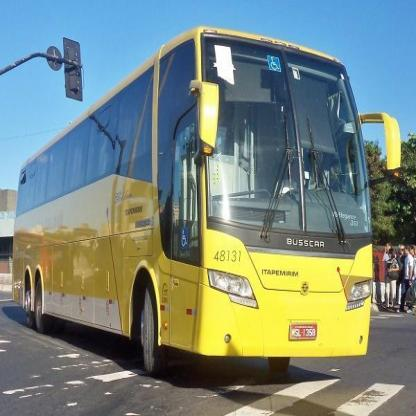Bus: (13, 17, 374, 402)
